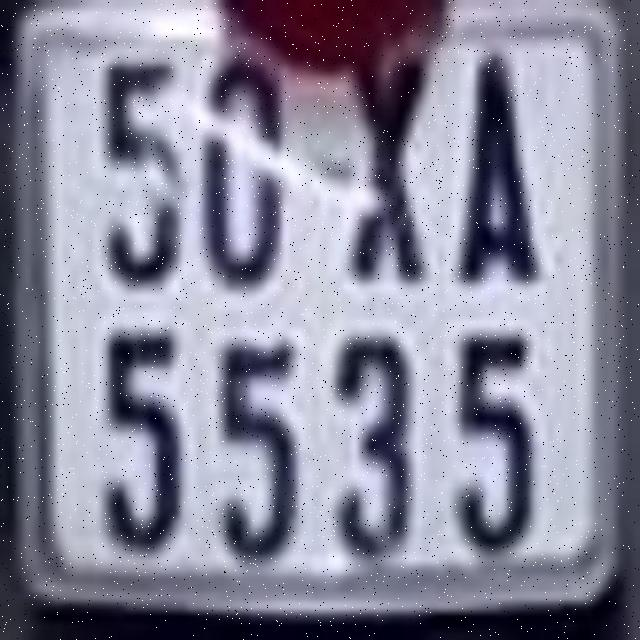0: (204, 57, 284, 285)
3: (332, 330, 416, 559)
5: (101, 59, 185, 285), (218, 336, 302, 562), (454, 330, 537, 551), (104, 328, 185, 553)
A: (458, 49, 544, 290)
X: (344, 51, 435, 298)
